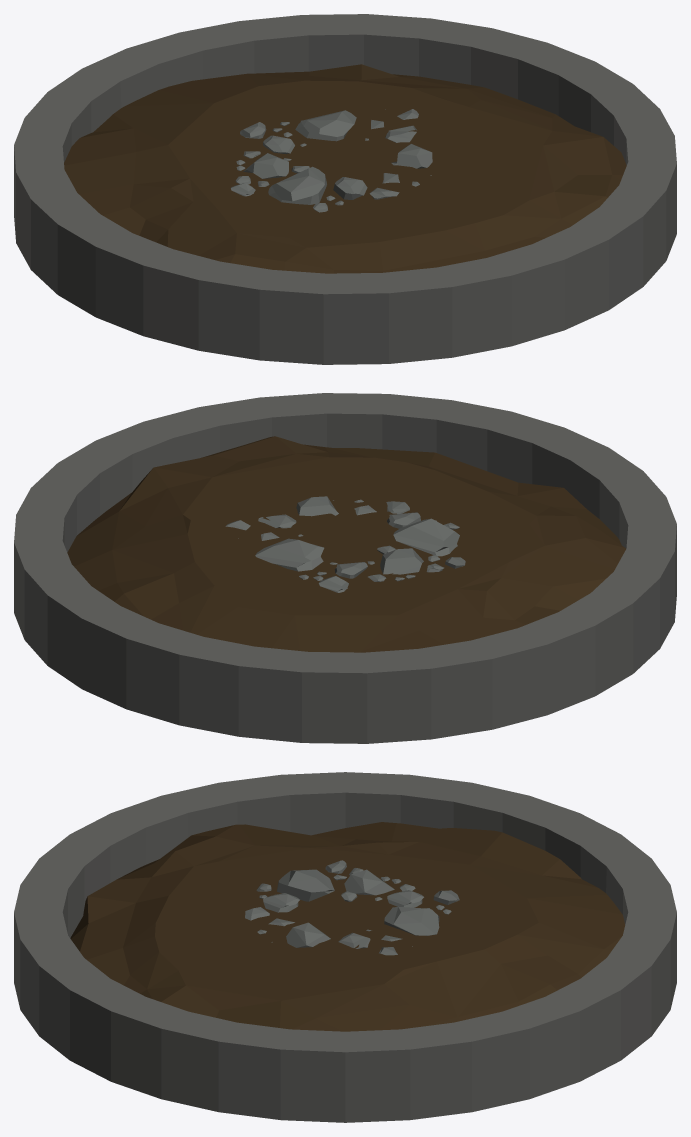
File: cantero.fbx
3 renders of one model, top to bottom at view 1: azimuth 30°, elevation 25°; view 2: azimuth 150°, elevation 25°; view 3: azimuth 270°, elevation 25°, orthographic.
Visible parts, largest first — view 1: Cilindro, Cilindro.001, Hueco vacio.001, Hueco vacio.004, Hueco vacio.006, Hueco vacio.002, Hueco vacio.007; view 2: Cilindro, Cilindro.001, Hueco vacio.001, Hueco vacio.004, Hueco vacio.006, Hueco vacio.002; view 3: Cilindro, Cilindro.001, Hueco vacio.001, Hueco vacio.004, Hueco vacio.006, Hueco vacio.002, Hueco vacio.007.
Boxes of the visible parts, x1,y1,x2,y2 form: Cilindro: (14, 14, 676, 364); Cilindro.001: (64, 64, 626, 273); Hueco vacio.001: (268, 166, 326, 204); Hueco vacio.004: (295, 110, 356, 141); Hueco vacio.006: (243, 153, 288, 178); Hueco vacio.002: (391, 144, 432, 168); Hueco vacio.007: (333, 177, 367, 199); Cilindro: (14, 393, 676, 743); Cilindro.001: (67, 436, 625, 652); Hueco vacio.001: (393, 518, 459, 556); Hueco vacio.004: (255, 538, 324, 571); Hueco vacio.006: (380, 548, 423, 574); Hueco vacio.002: (296, 496, 338, 516); Cilindro: (14, 772, 676, 1122); Cilindro.001: (70, 822, 625, 1031); Hueco vacio.001: (277, 869, 334, 901); Hueco vacio.004: (384, 906, 439, 935); Hueco vacio.006: (344, 869, 394, 895); Hueco vacio.002: (286, 922, 330, 947); Hueco vacio.007: (263, 893, 299, 912).
Bounding box in the file's own units: 741 × 101 × 741.
